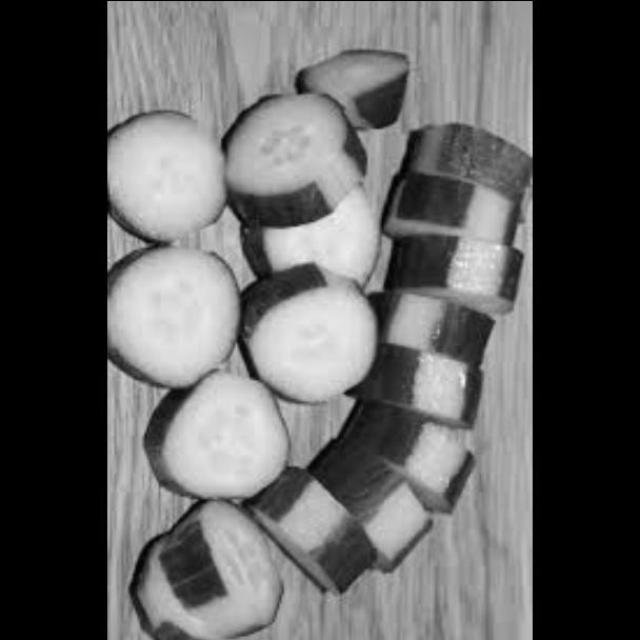dua chuot: (370, 285, 506, 496), (386, 134, 534, 310), (269, 442, 428, 592), (217, 80, 376, 229), (134, 499, 296, 640), (147, 372, 312, 502), (108, 246, 250, 388), (242, 266, 384, 406), (246, 169, 392, 294), (108, 113, 241, 249), (296, 38, 418, 136)
